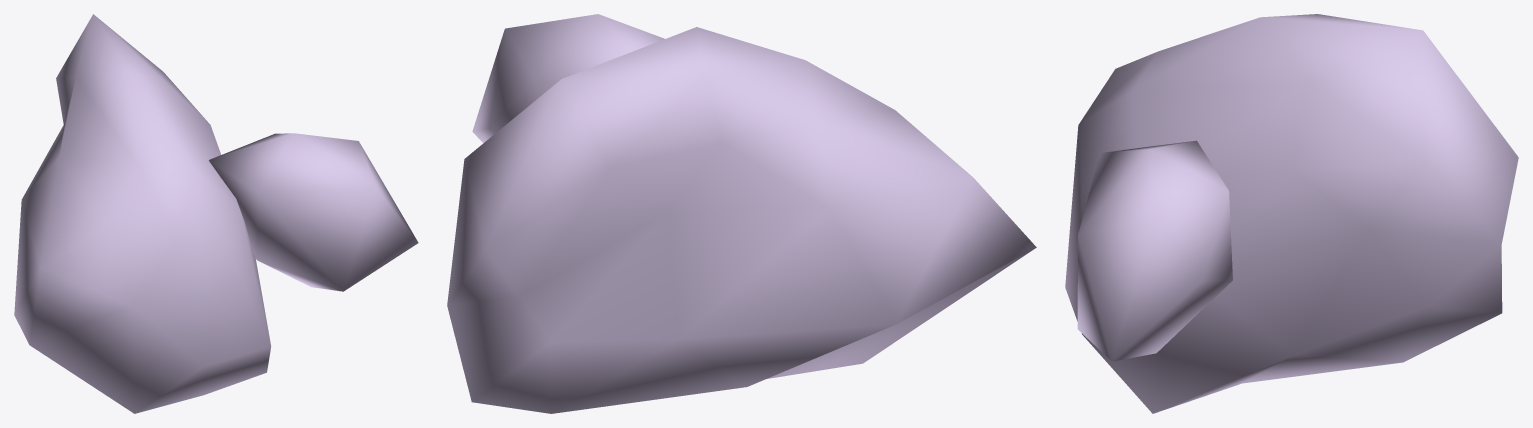
The picture shows the model from 3 angles, left to right: view 1: azimuth 30°, elevation 25°; view 2: azimuth 150°, elevation 25°; view 3: azimuth 270°, elevation 25°; orthographic projection. The views are drawn at different scales.
Parts seen in each view (by area): view 1: Object69; view 2: Object69; view 3: Object69.
Boxes of the visible parts, x1,y1,x2,y2 form: Object69: [14, 14, 418, 413]; Object69: [447, 14, 1036, 413]; Object69: [1065, 14, 1518, 413].
Size of the model in its own units: 26145 by 18103 by 21380.
